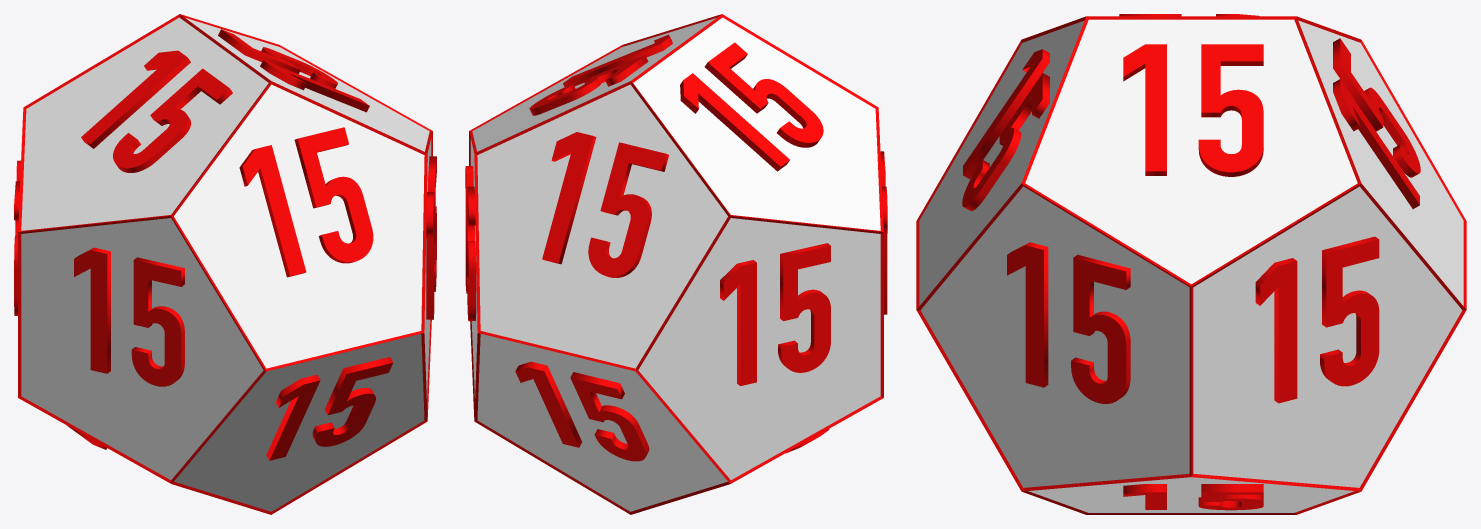
File: dodecahedron_sign-15.glb
3 views of the same model, side by side, from view 1: azimuth 30°, elevation 25°; view 2: azimuth 150°, elevation 25°; view 3: azimuth 270°, elevation 25° (orthographic). The views are drawn at different scales.
Parts seen in each view (by area): view 1: Dodecahedron_Solid, Dodecahedron_Wire, Text20_5, Text20_11, Text20_7, Text20_10, Text20_2, Text20_6, Text20_8; view 2: Dodecahedron_Solid, Dodecahedron_Wire, Text20_0, Text20_8, Text20_7, Text20_3, Text20_2, Text20_1, Text20_11; view 3: Dodecahedron_Solid, Dodecahedron_Wire, Text20_1, Text20_6, Text20_2, Text20_5, Text20_0, Text20_4.
Boxes of the visible parts, box(x1,y1,x2,y2) form: Dodecahedron_Solid: box(21, 17, 431, 511); Dodecahedron_Wire: box(18, 14, 432, 514); Text20_5: box(239, 127, 373, 277); Text20_11: box(74, 247, 184, 386); Text20_7: box(81, 50, 232, 172); Text20_10: box(266, 357, 393, 460); Text20_2: box(218, 29, 369, 112); Text20_6: box(426, 156, 436, 319); Text20_8: box(14, 160, 20, 315); Dodecahedron_Solid: box(470, 17, 880, 511); Dodecahedron_Wire: box(469, 14, 883, 514); Text20_0: box(542, 132, 668, 277); Text20_8: box(720, 243, 830, 385); Text20_7: box(680, 42, 823, 171); Text20_3: box(515, 361, 649, 461); Text20_2: box(529, 34, 672, 115); Text20_1: box(465, 166, 476, 321); Text20_11: box(880, 151, 887, 314); Dodecahedron_Solid: box(919, 19, 1463, 512); Dodecahedron_Wire: box(916, 16, 1466, 514); Text20_1: box(1255, 236, 1379, 403); Text20_6: box(1007, 242, 1130, 403); Text20_2: box(1123, 44, 1263, 176); Text20_5: box(962, 49, 1049, 211); Text20_0: box(1333, 38, 1420, 208); Text20_4: box(1123, 484, 1263, 510).
Size of the model in its own units: 3.26 by 3.26 by 3.26.
